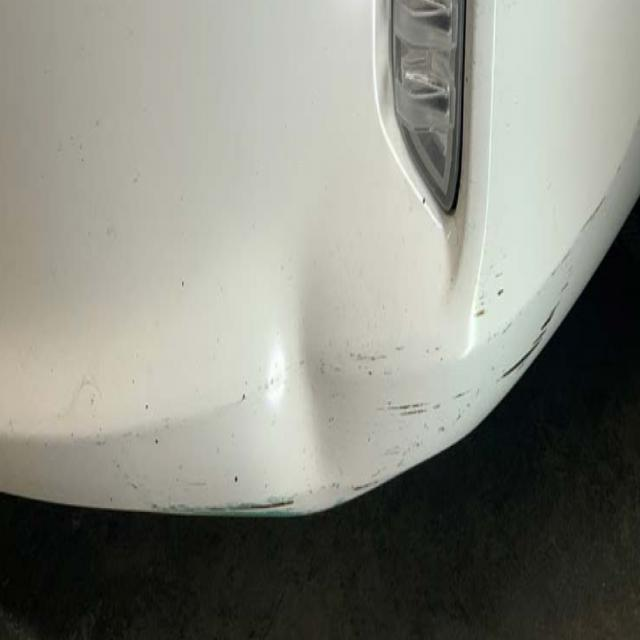dents: (254, 276, 374, 520)
